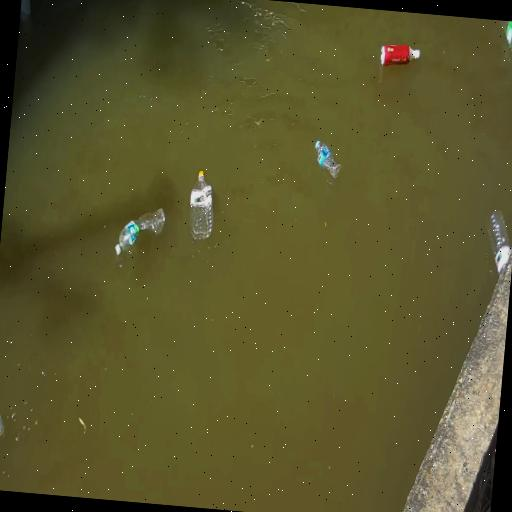plastic: (115, 209, 165, 255), (190, 171, 213, 240), (490, 212, 511, 273), (316, 141, 340, 179), (380, 45, 420, 66), (501, 21, 511, 49), (0, 415, 3, 437)
